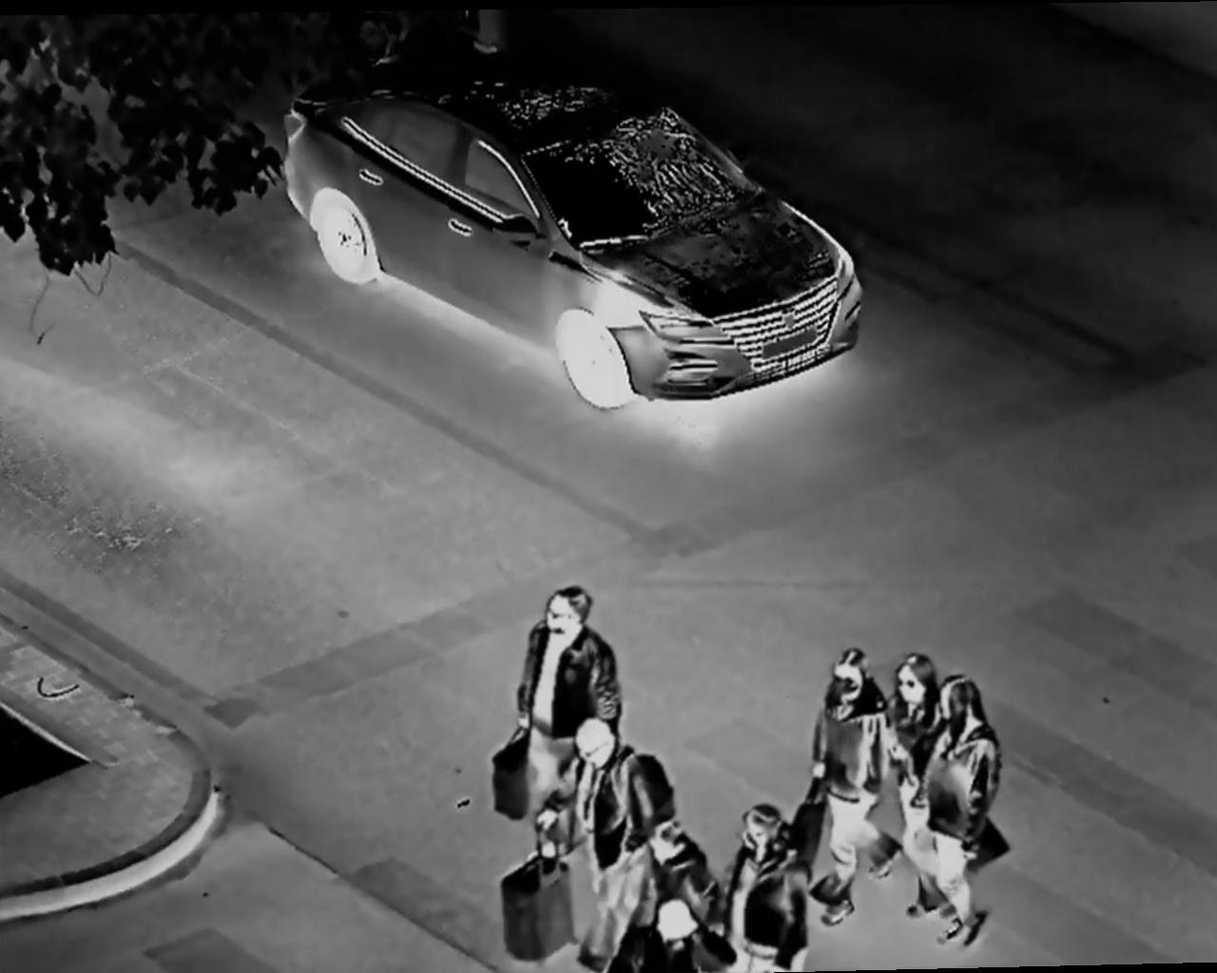person: (552, 726, 666, 956), (507, 577, 619, 804), (925, 682, 1009, 955), (798, 646, 885, 897), (727, 799, 821, 973), (880, 646, 945, 888), (628, 814, 718, 973)
